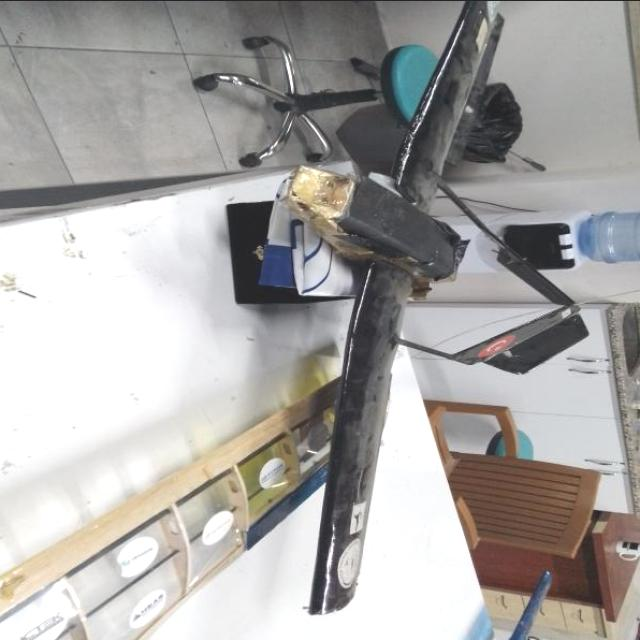plane: (270, 0, 601, 617)
